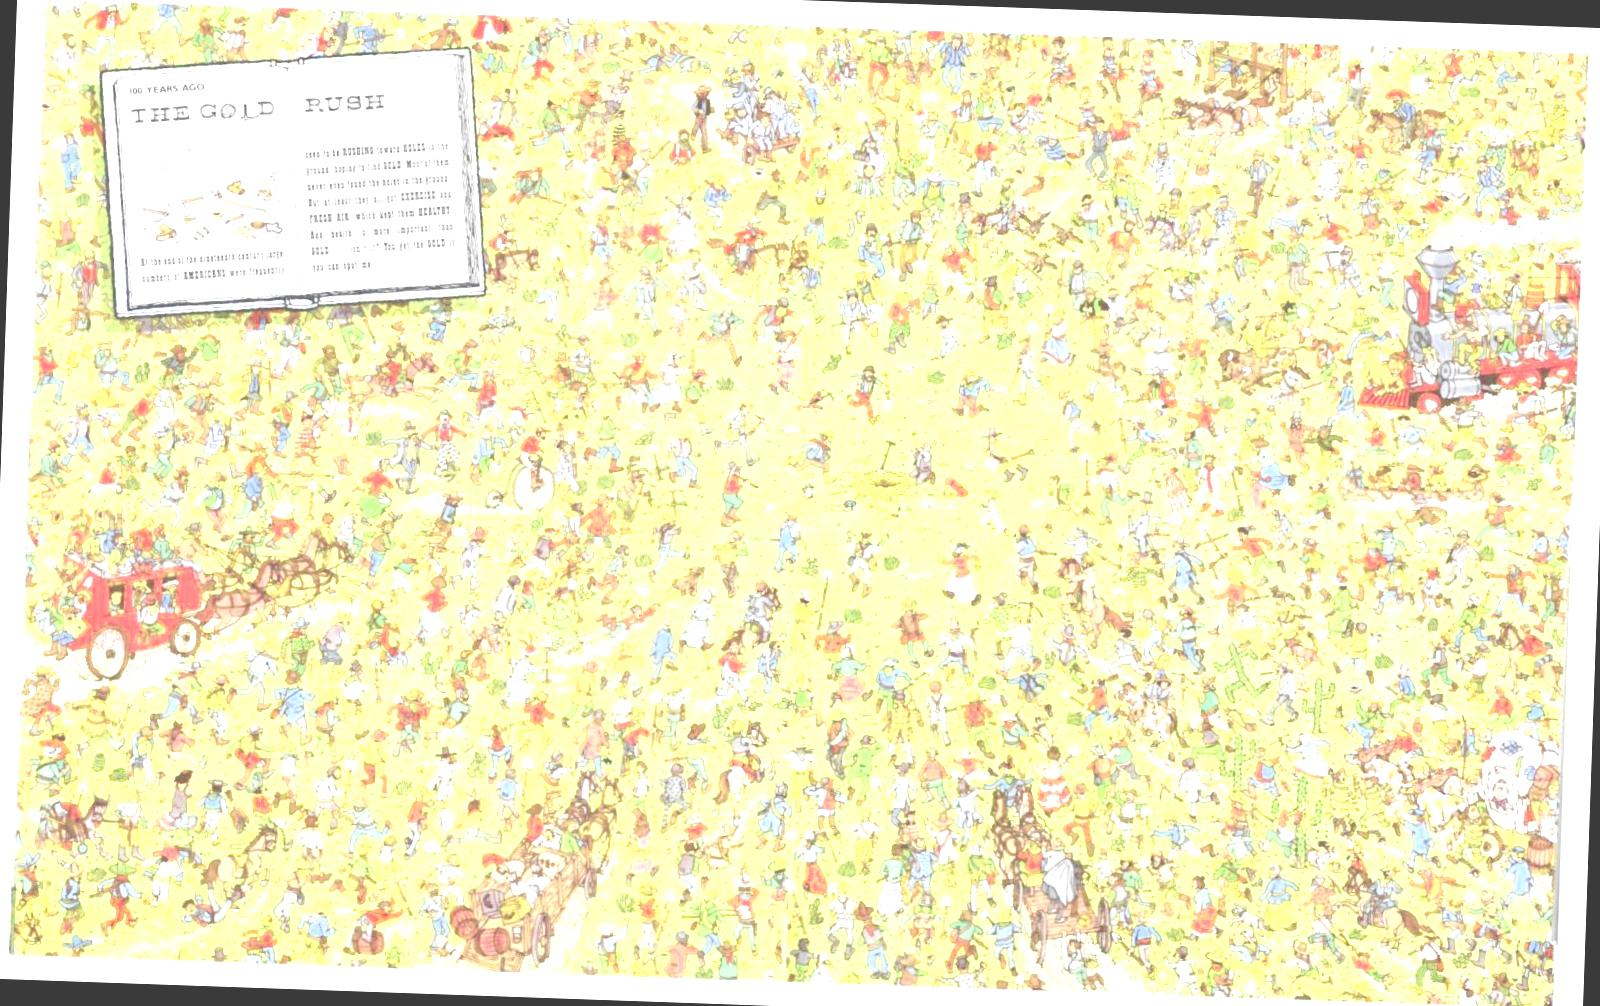waldo: (299, 410, 314, 428)
